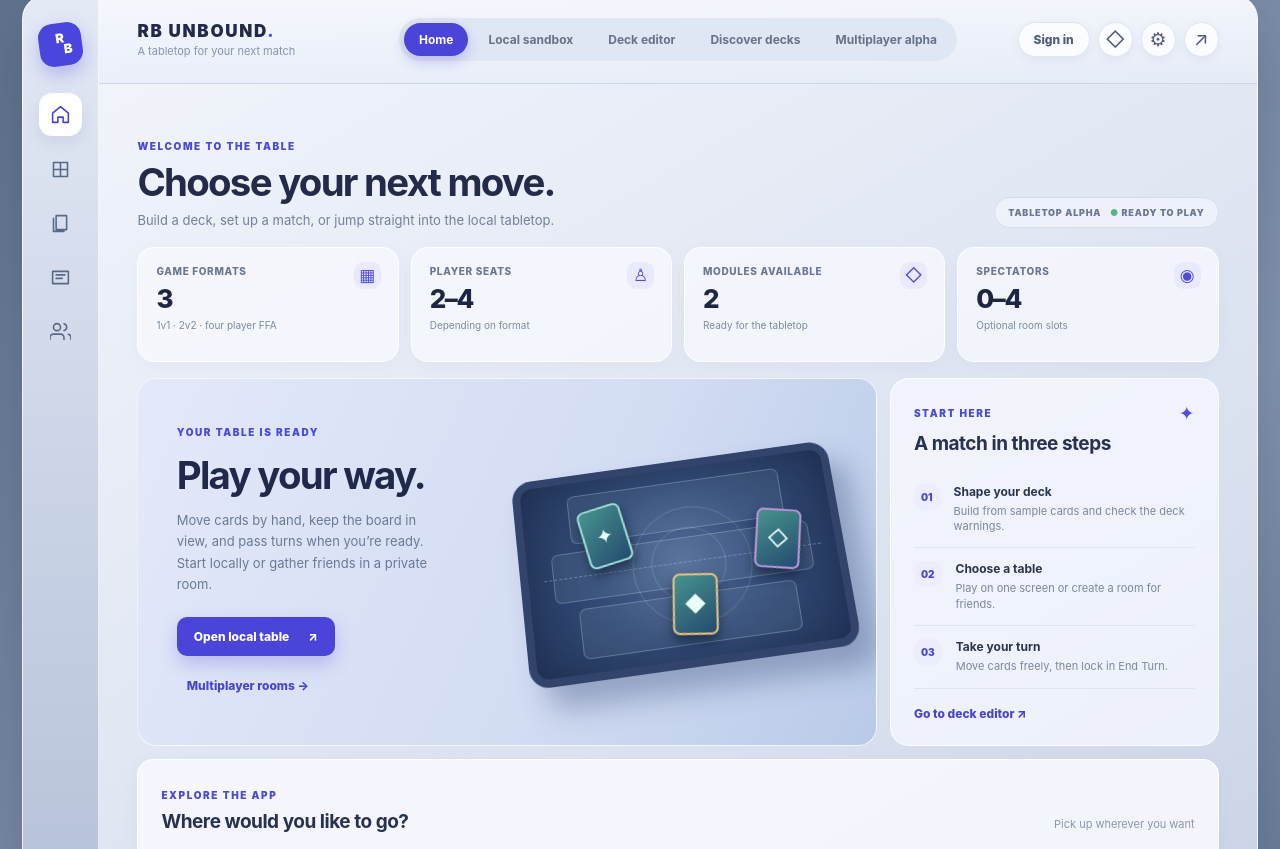
Scenario: DeckTools › uses a separate app view and loads the chosen rune, legend, and champion piles
Click the button "Deck editor".
click(642, 40)  # box [593,23,690,56]
(page scrolled)
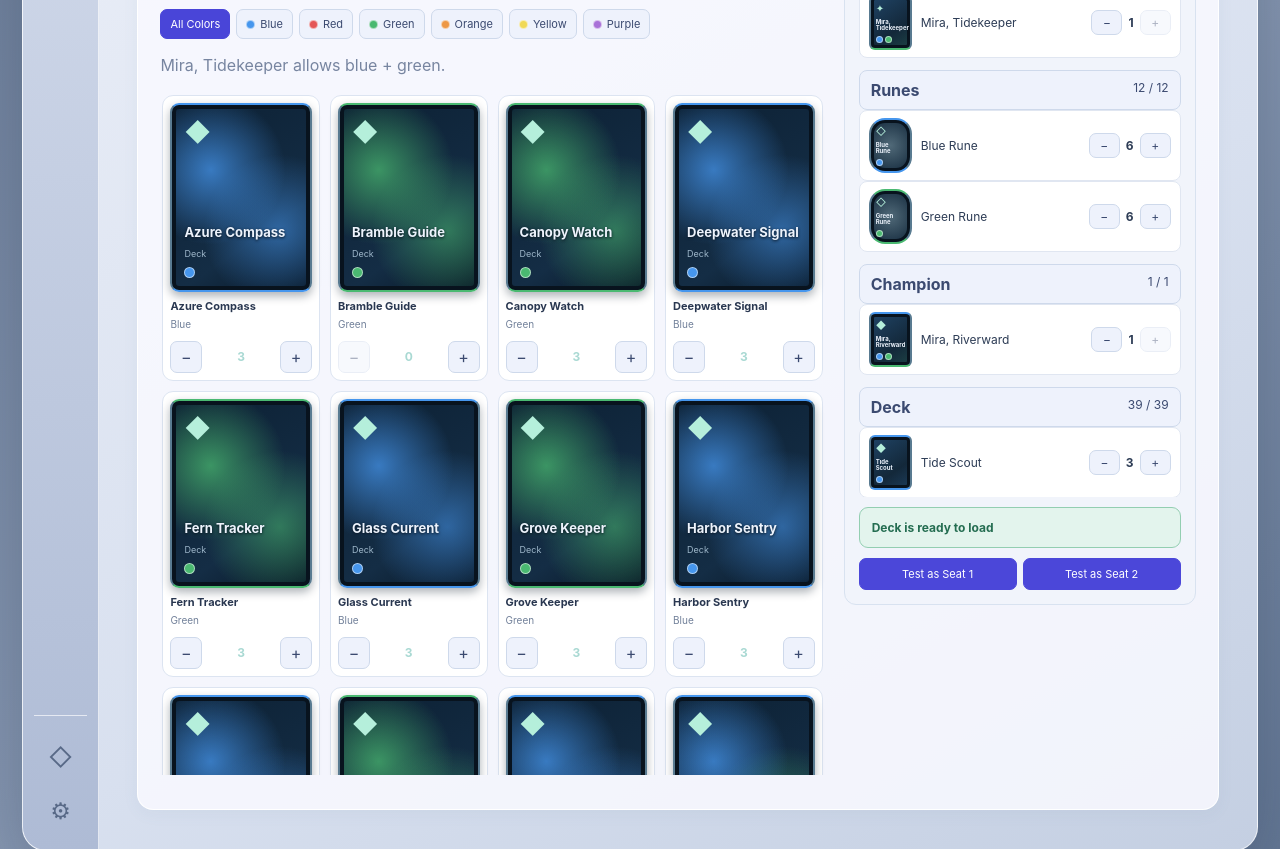
Click the button "Test as Seat 1".
click(938, 574)  # box [859,558,1017,590]
(page scrolled)
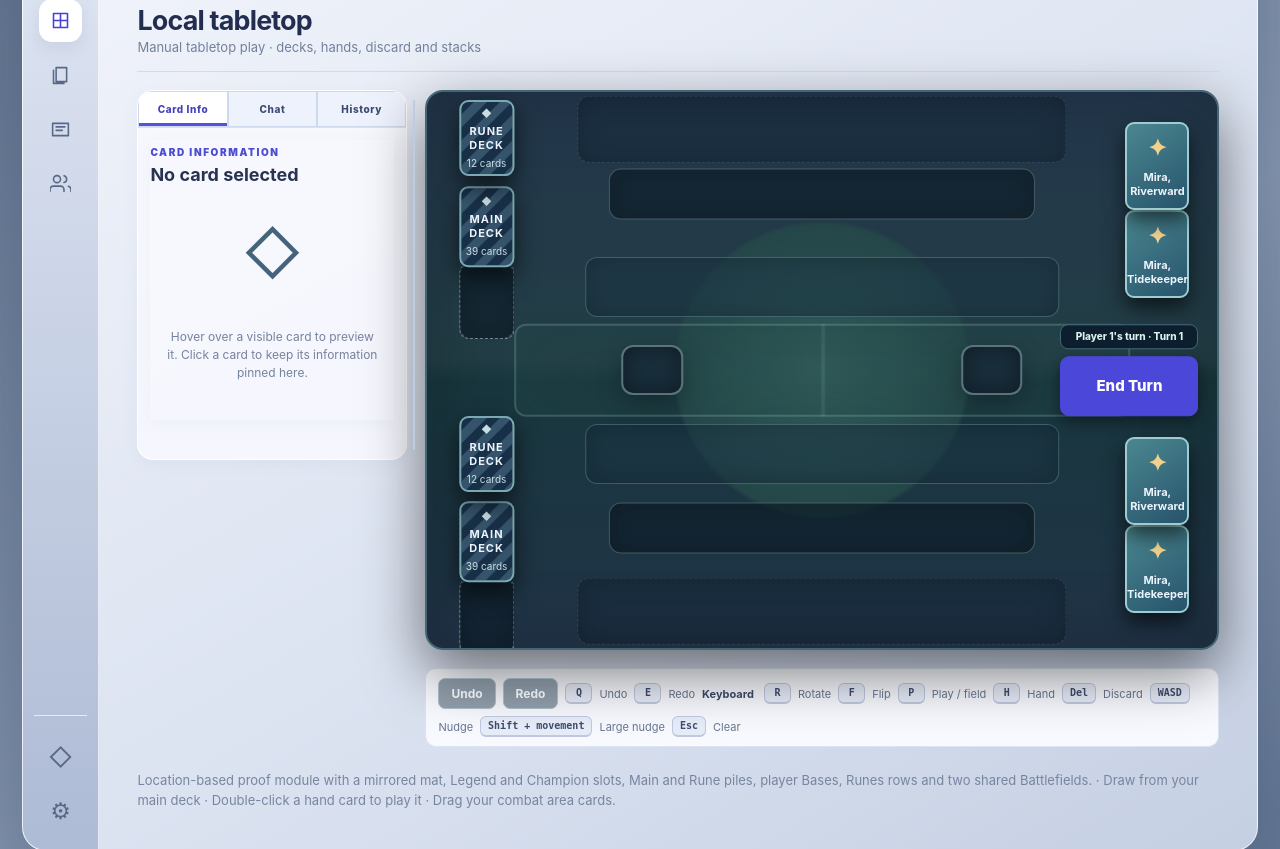
Expected: the 1st text "Mira, Tidekeeper" is shown, [1127,258,1188,286]
Expected: the element named "RB Unbound tabletop board" is shown, [425,90,1219,650]
Expected: the number of buttons "◆ RUNE DECK 12 cards" is 2, [459,100,514,176]; [459,416,514,492]
